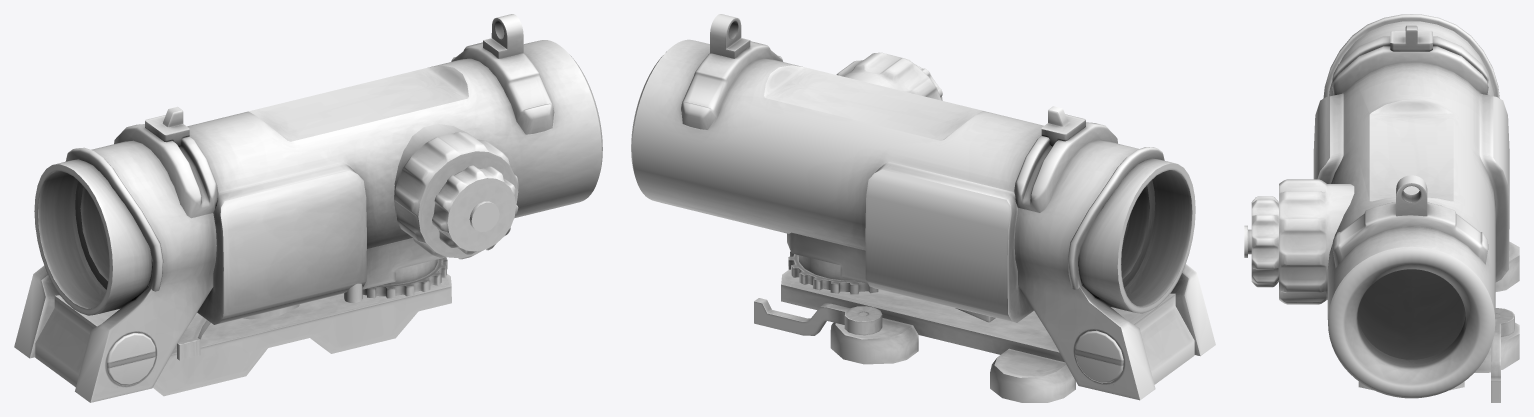
The model's file is Elcan Spectre.fbx.
3 renders of one model, left to right at view 1: azimuth 30°, elevation 25°; view 2: azimuth 150°, elevation 25°; view 3: azimuth 270°, elevation 25°, orthographic.
Visible parts, largest first — view 1: spectre; view 2: spectre; view 3: spectre, spectrelens.
Boxes of the visible parts, x1,y1,x2,y2 form: spectre: (14, 14, 602, 402); spectre: (631, 14, 1215, 402); spectre: (1244, 14, 1519, 402); spectrelens: (1357, 269, 1465, 359).
Bounding box in the file's own units: 5085 × 2564 × 2360.
2 materials, 1 textured.
